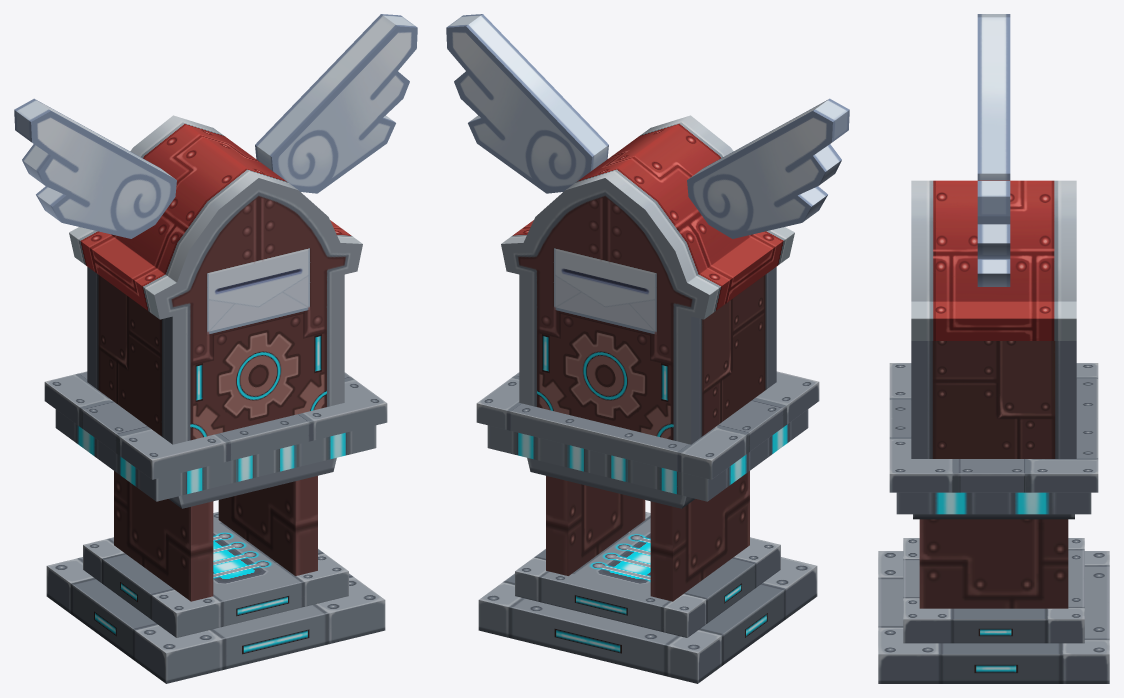
File: youxiang.FBX
The picture shows the model from 3 angles, left to right: view 1: azimuth 30°, elevation 25°; view 2: azimuth 150°, elevation 25°; view 3: azimuth 270°, elevation 25°; orthographic projection. The views are drawn at different scales.
Parts seen in each view (by area): view 1: youxiang; view 2: youxiang; view 3: youxiang.
Part boxes in pixels (x1,y1,x2,y2): youxiang: (14,14,417,683); youxiang: (446,14,849,683); youxiang: (878,14,1109,683).
Bounding box in the file's own units: 50.79 × 69.14 × 27.19.
